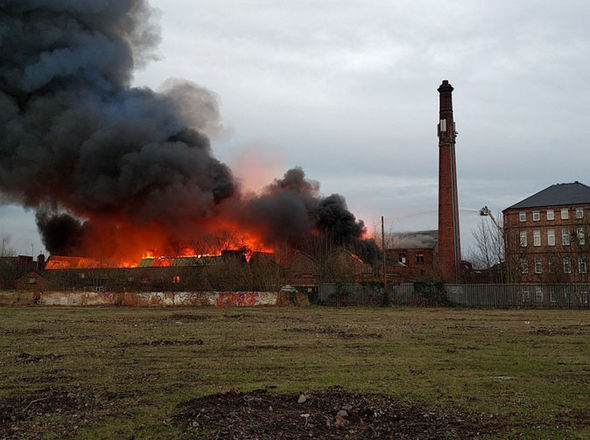fire: (49, 185, 373, 277)
